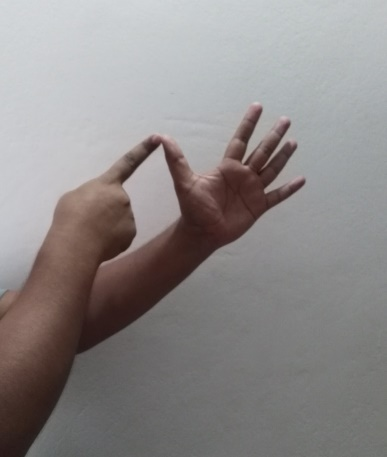a: (60, 100, 308, 275)
